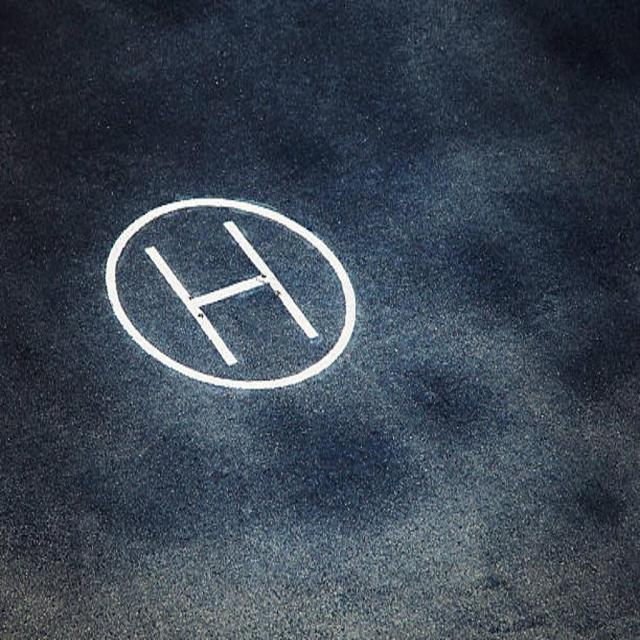helipad: (103, 195, 358, 391)
